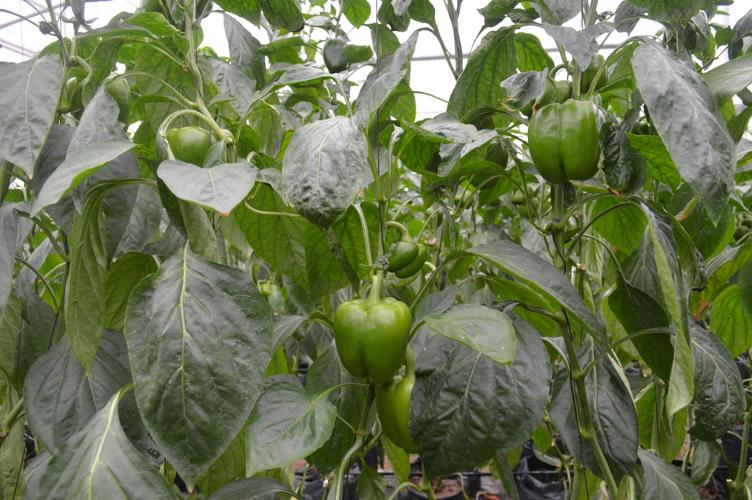BellPepper: (333, 297, 408, 380), (527, 103, 599, 181), (377, 379, 413, 455), (164, 125, 207, 164), (384, 243, 426, 279)
